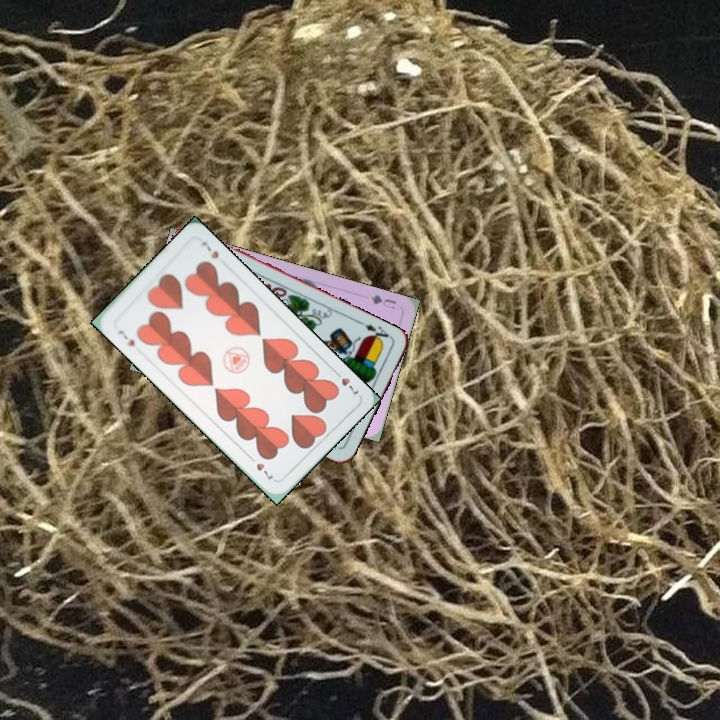EA: (356, 318, 395, 345)
GU: (367, 291, 399, 312)
H7: (329, 366, 361, 397), (114, 326, 137, 349)
